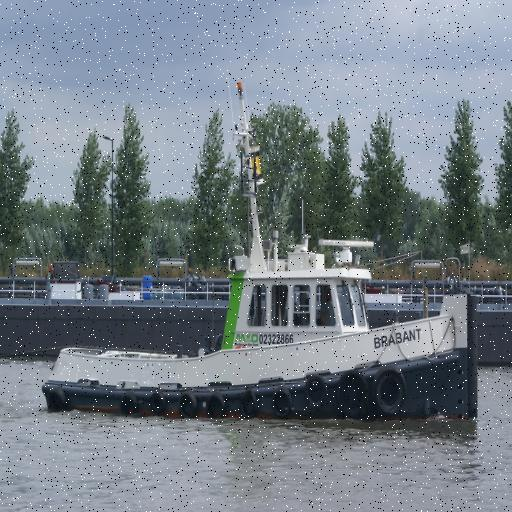tugboat: (37, 79, 482, 432)
